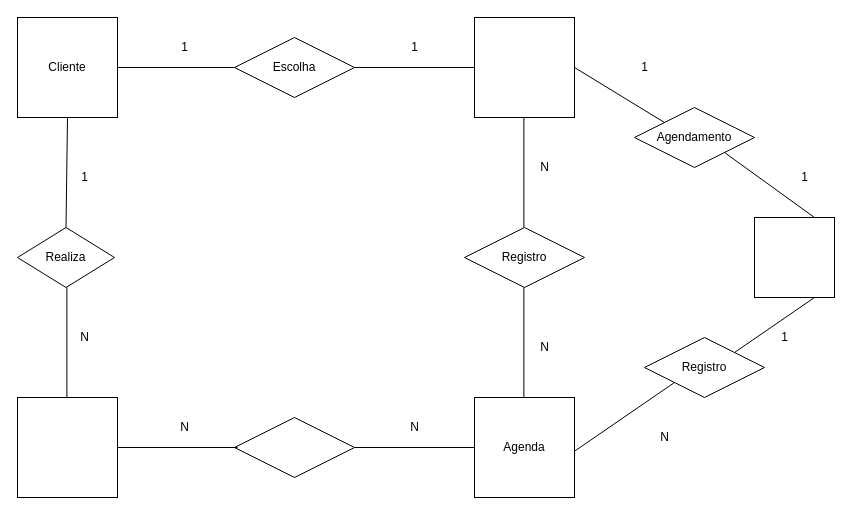
Image size: 852x515. Some labels were removed from this diagram. The shapes that lost their labels are listed below. From the top down, each one's centre as x and y in pixels, then its label:
At pixel 524 67: "Plano".
At pixel 794 257: "Quarto".
At pixel 67 447: "Movimento".
At pixel 294 447: "Dados da reserva".
